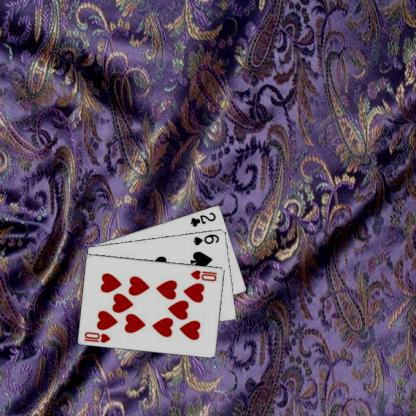10H: (188, 267, 218, 282), (82, 329, 112, 343)
2C: (188, 209, 217, 228)
6S: (191, 231, 220, 246)
